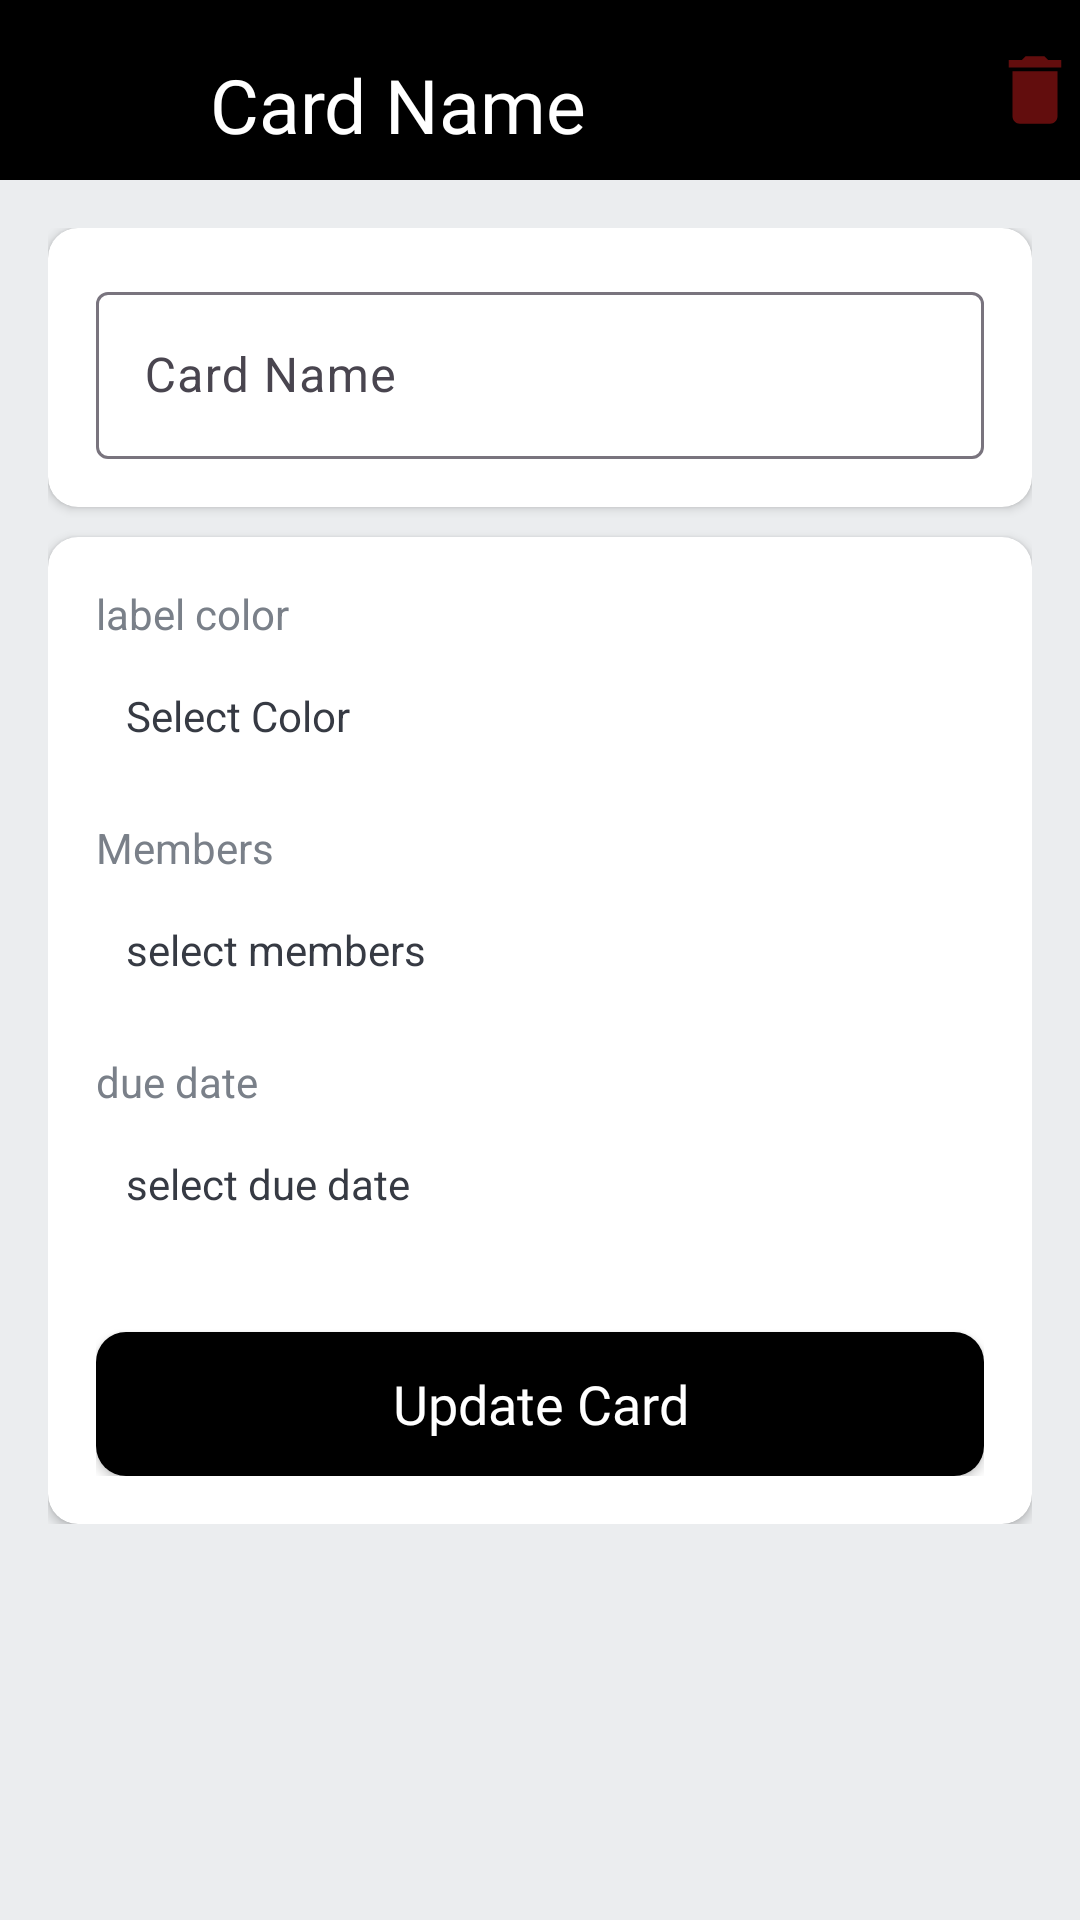

Point at icon controls on the screen. Image size 1080*1920, points as (x=x, y=y).
delete: (x=1035, y=90)
